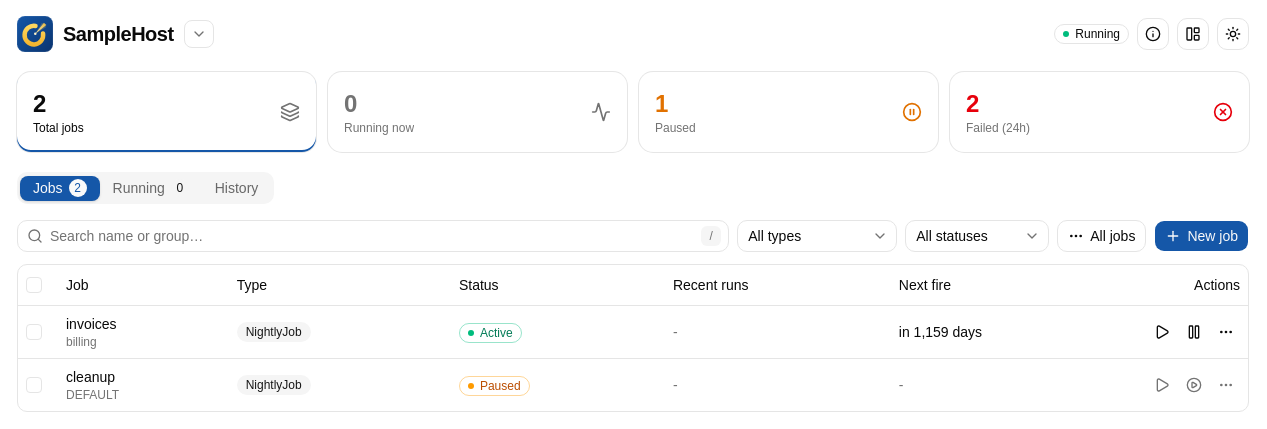
App › keeps the name of the scheduler switched to, and the switch, in the header while it loads
Expected: the heading "SampleHost" is shown, [63,22,174,46]
Click the dropdown named "Scheduler". click: (199, 34)
box: [184,20,214,48]
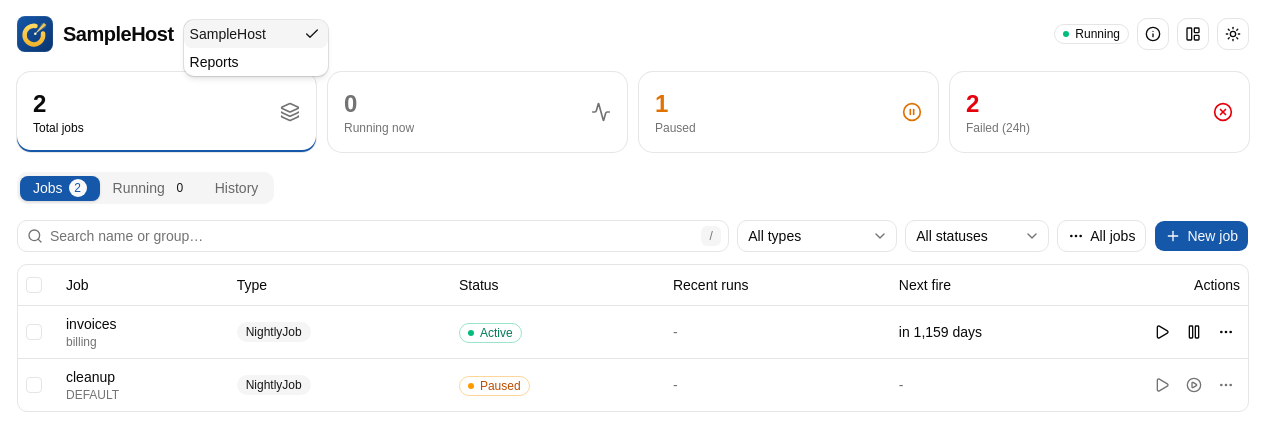
Click the option "Reports". click: (214, 62)
box: [190,54,239,70]
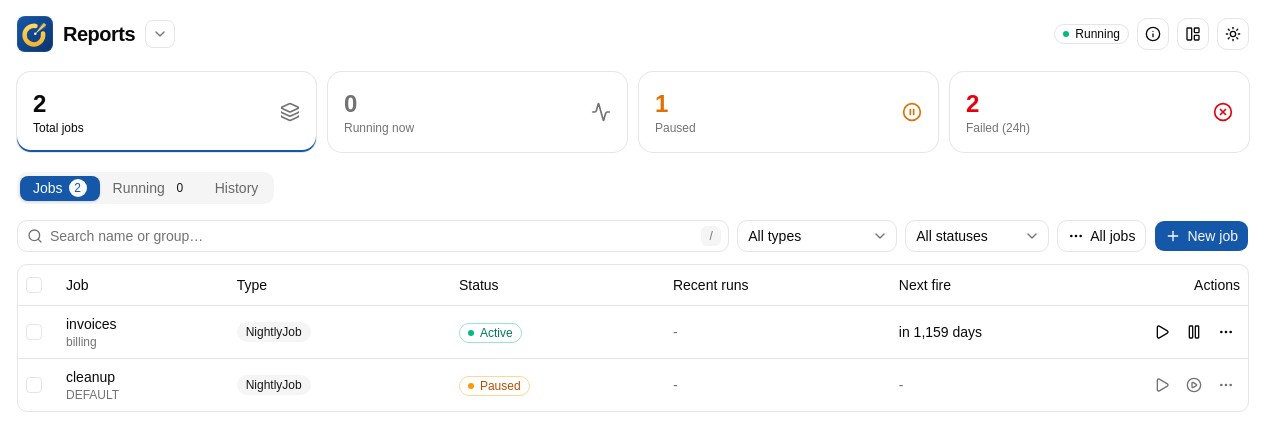
Expected: the panel is shown, [17,212,1249,412]
Expected: the heading "Reports" is shown, [63,22,135,46]
